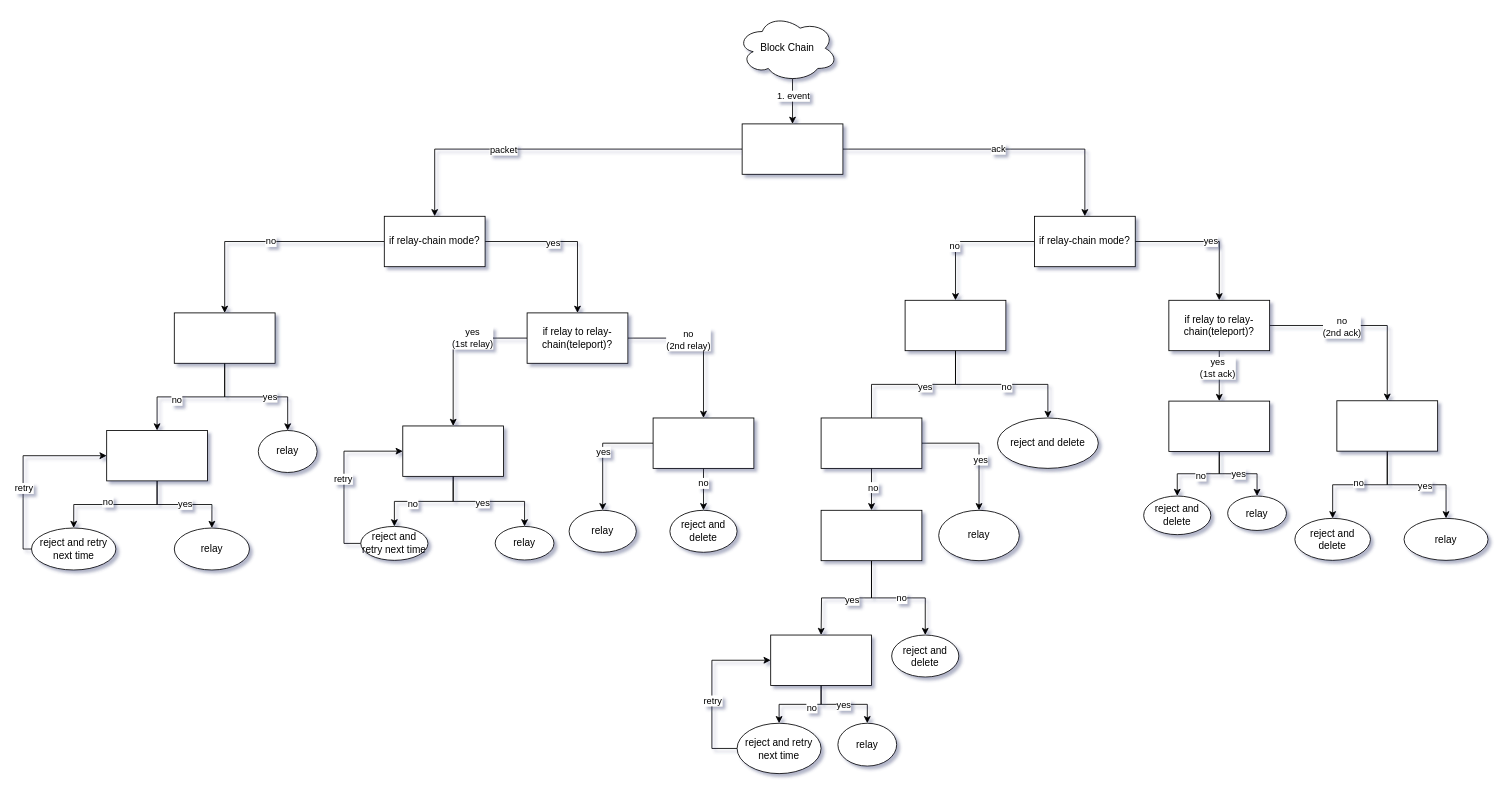
The diagram is 1508 pixels wide and 794 high, and some of its shapes have lost their labels. The shapes that lost their labels are listed below. From the top down, each one's centre as x and y in pixels, then its label:
At pixel 792 148: "check type".
At pixel 224 337: "if free to relay?".
At pixel 955 325: "if the packet relayer is from our group?".
At pixel 703 442: "if first packet relayer is from our group?".
At pixel 871 442: "if the packet has fee paid".
At pixel 1219 426: "if the related packet relayer is from our group?".
At pixel 1387 425: "if the 1st ack relayer is from our group?".
At pixel 156 455: "if user's fee is enough to cover".
At pixel 453 450: "if user's fee is enough to cover all paths".
At pixel 871 535: "if ack error?".
At pixel 821 659: "if user's fee is enough to relay ack".
